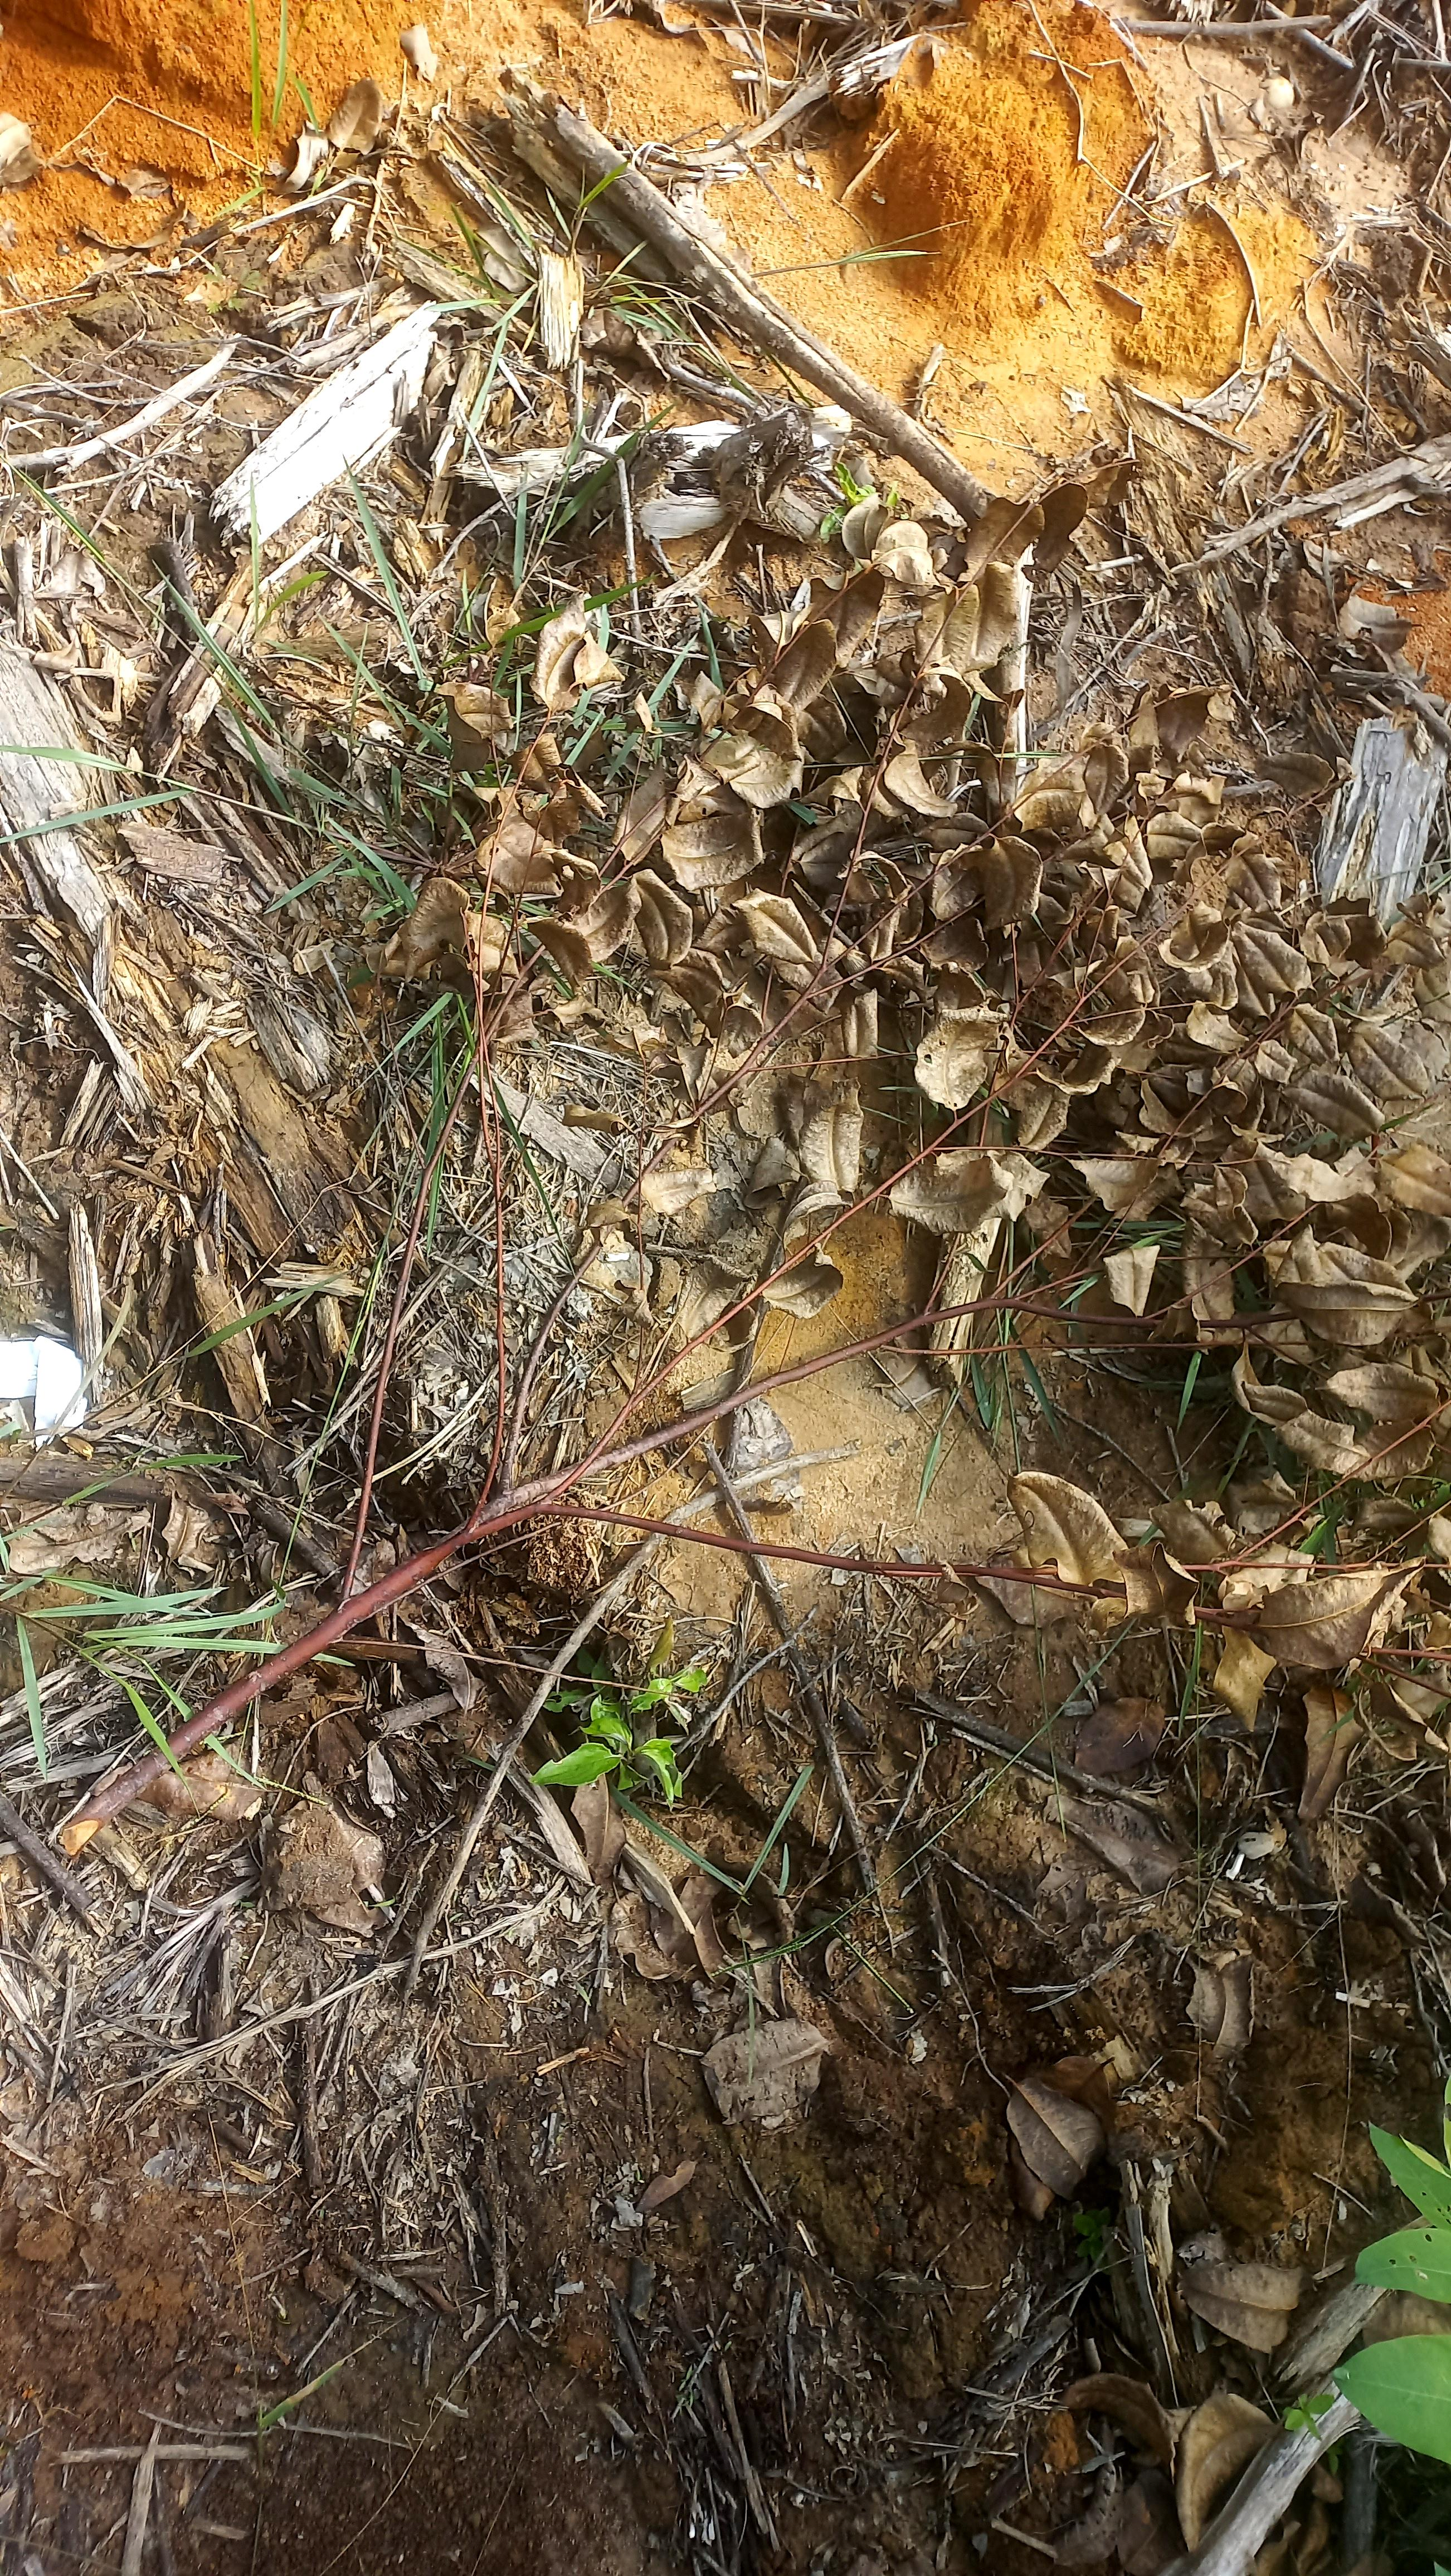Wither Tree Parts: (432, 469, 1451, 1730)
